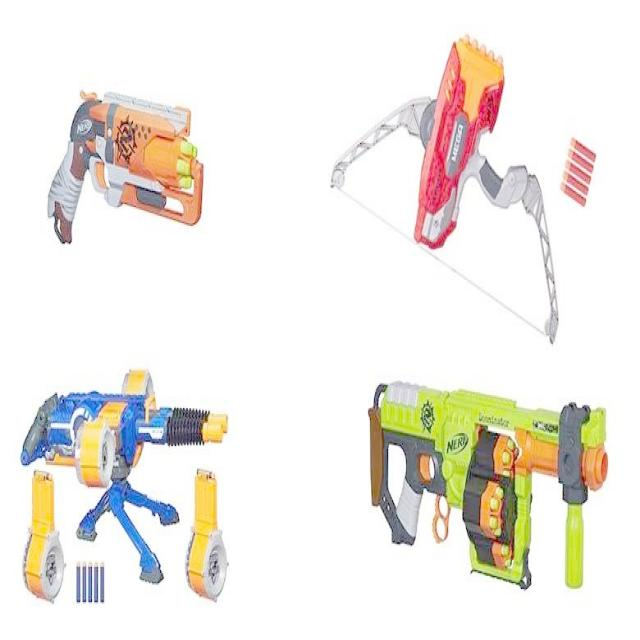Nerf gun: (345, 28, 574, 334), (363, 362, 613, 604), (21, 364, 226, 589), (39, 79, 212, 250)
